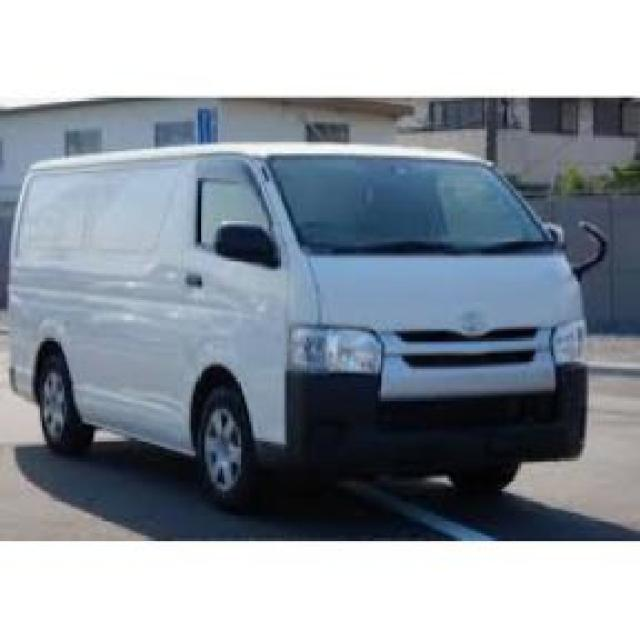Van: (9, 139, 594, 496)
